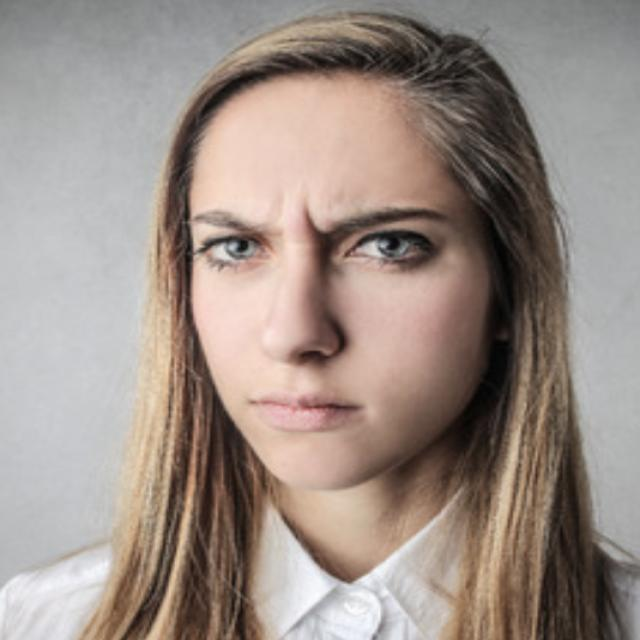angry: (141, 177, 486, 462)
